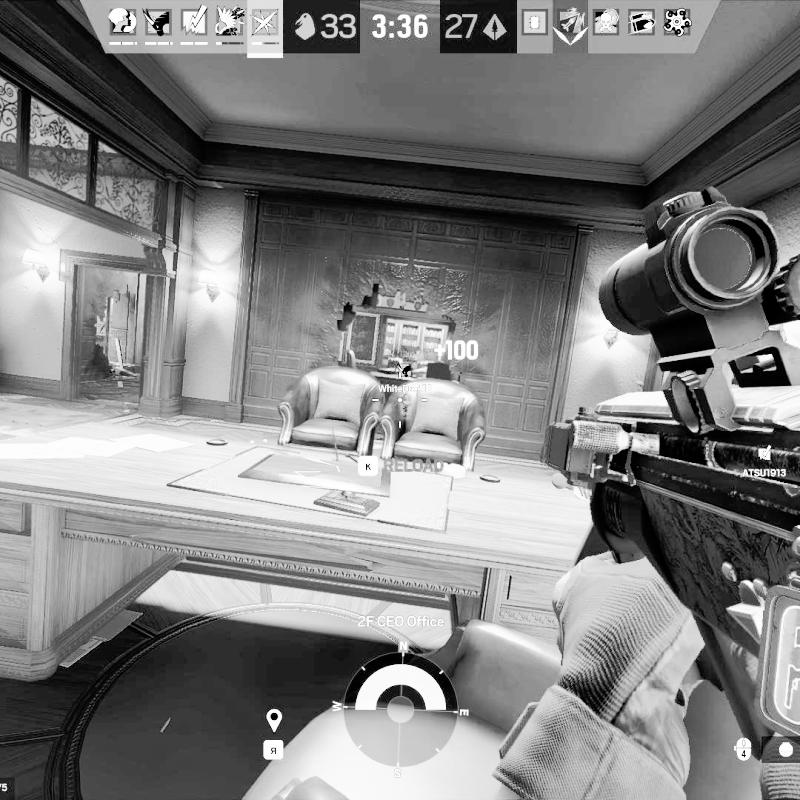Friend_label: (377, 361, 436, 393), (741, 445, 788, 478)
